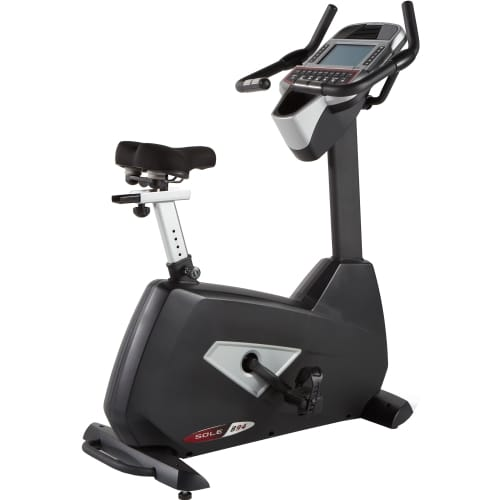gym_bike: (70, 7, 447, 470)
